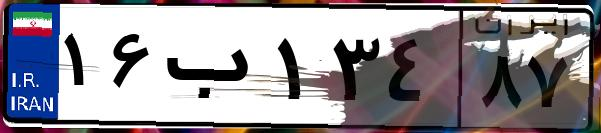1: (270, 28, 330, 110), (57, 26, 110, 100)
3: (330, 28, 385, 110)
4: (385, 28, 445, 110)
6: (110, 28, 158, 98)
7: (525, 38, 570, 115)
8: (475, 38, 525, 113)
ب: (158, 20, 270, 120)
